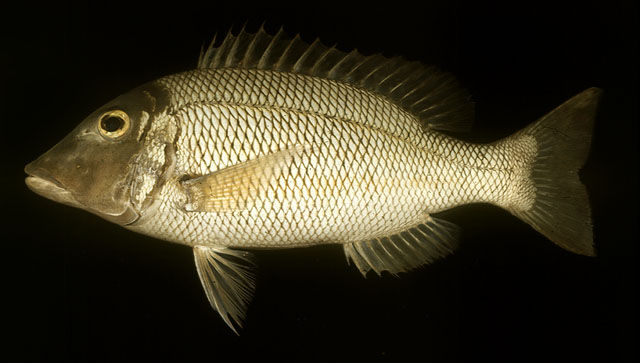fish: (24, 26, 601, 336)
